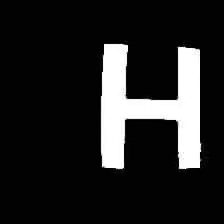LTR_H: (92, 31, 204, 179)
